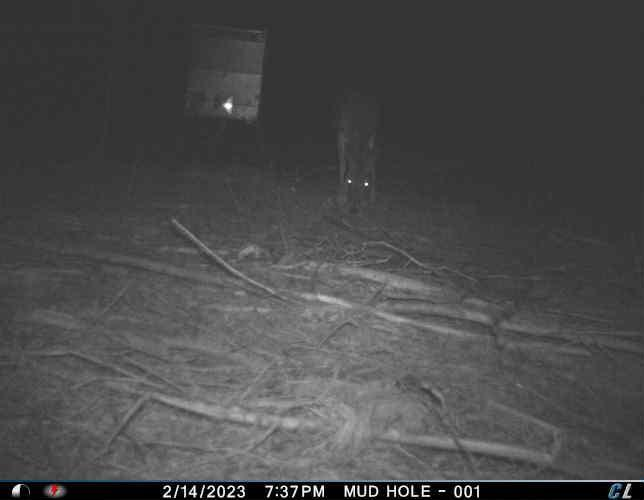Deer: (332, 73, 384, 221)
